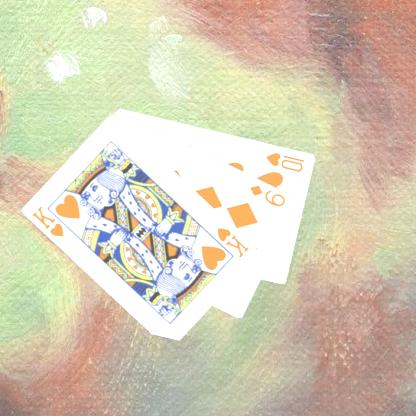10H: (264, 150, 306, 173)
9D: (248, 182, 287, 208)
KH: (214, 224, 251, 260), (30, 202, 66, 238)
